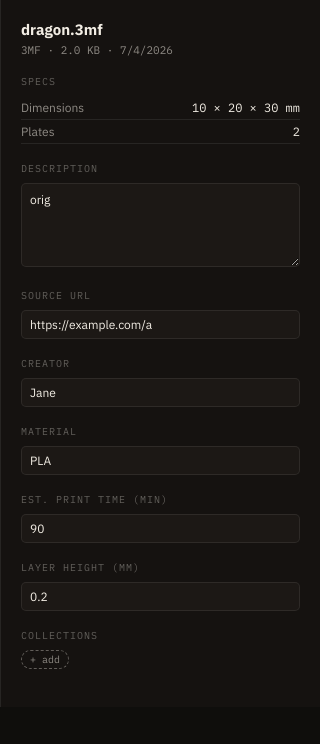
Test: DetailInfoPanel › shows an error hint when saving the description fails
Replace the text in the text box named "description" with "edited" at (160,225), box [21,183,300,267]
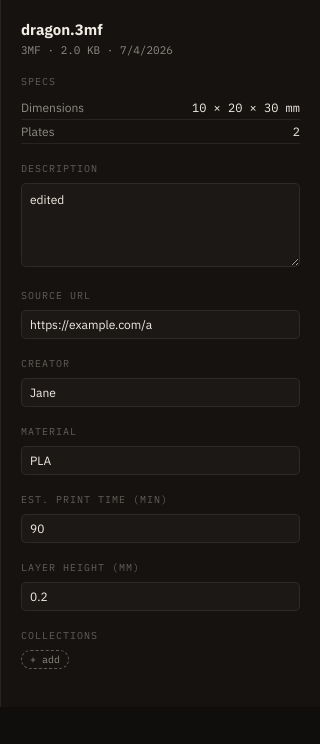
Leave the text box named "description", box [21,183,300,267]
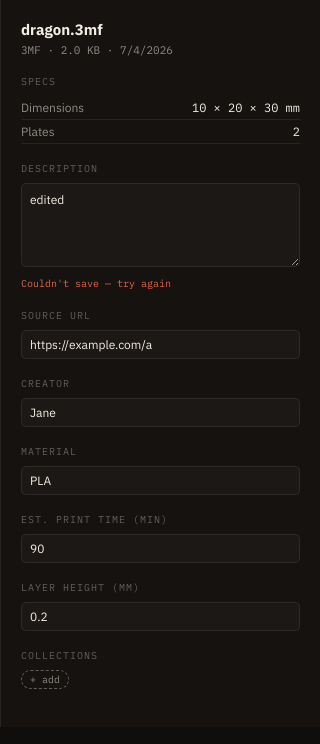
expect the message shows "Couldn't save": met, box [21,277,171,290]
